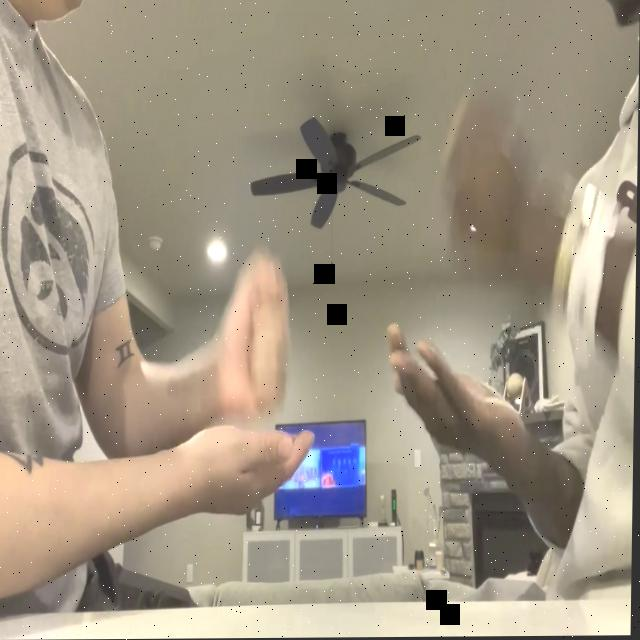Rock: (441, 86, 529, 266), (218, 247, 292, 424)
